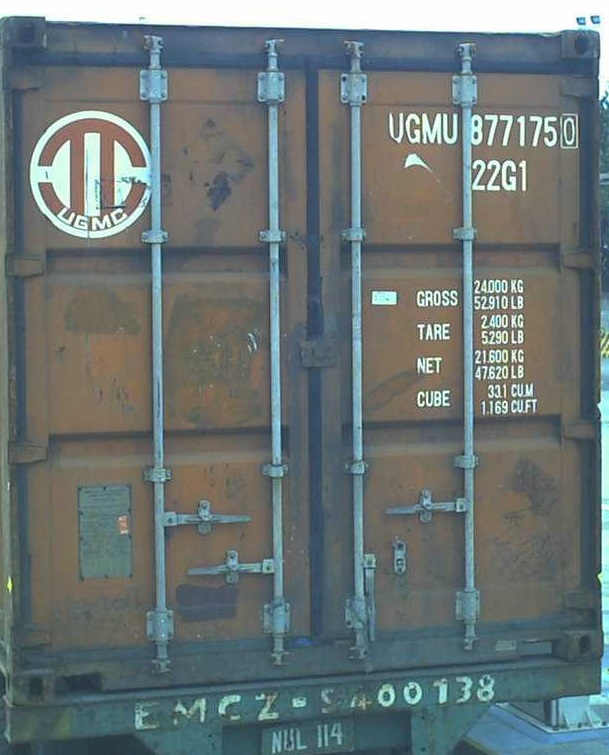container_door: (3, 10, 602, 696)
